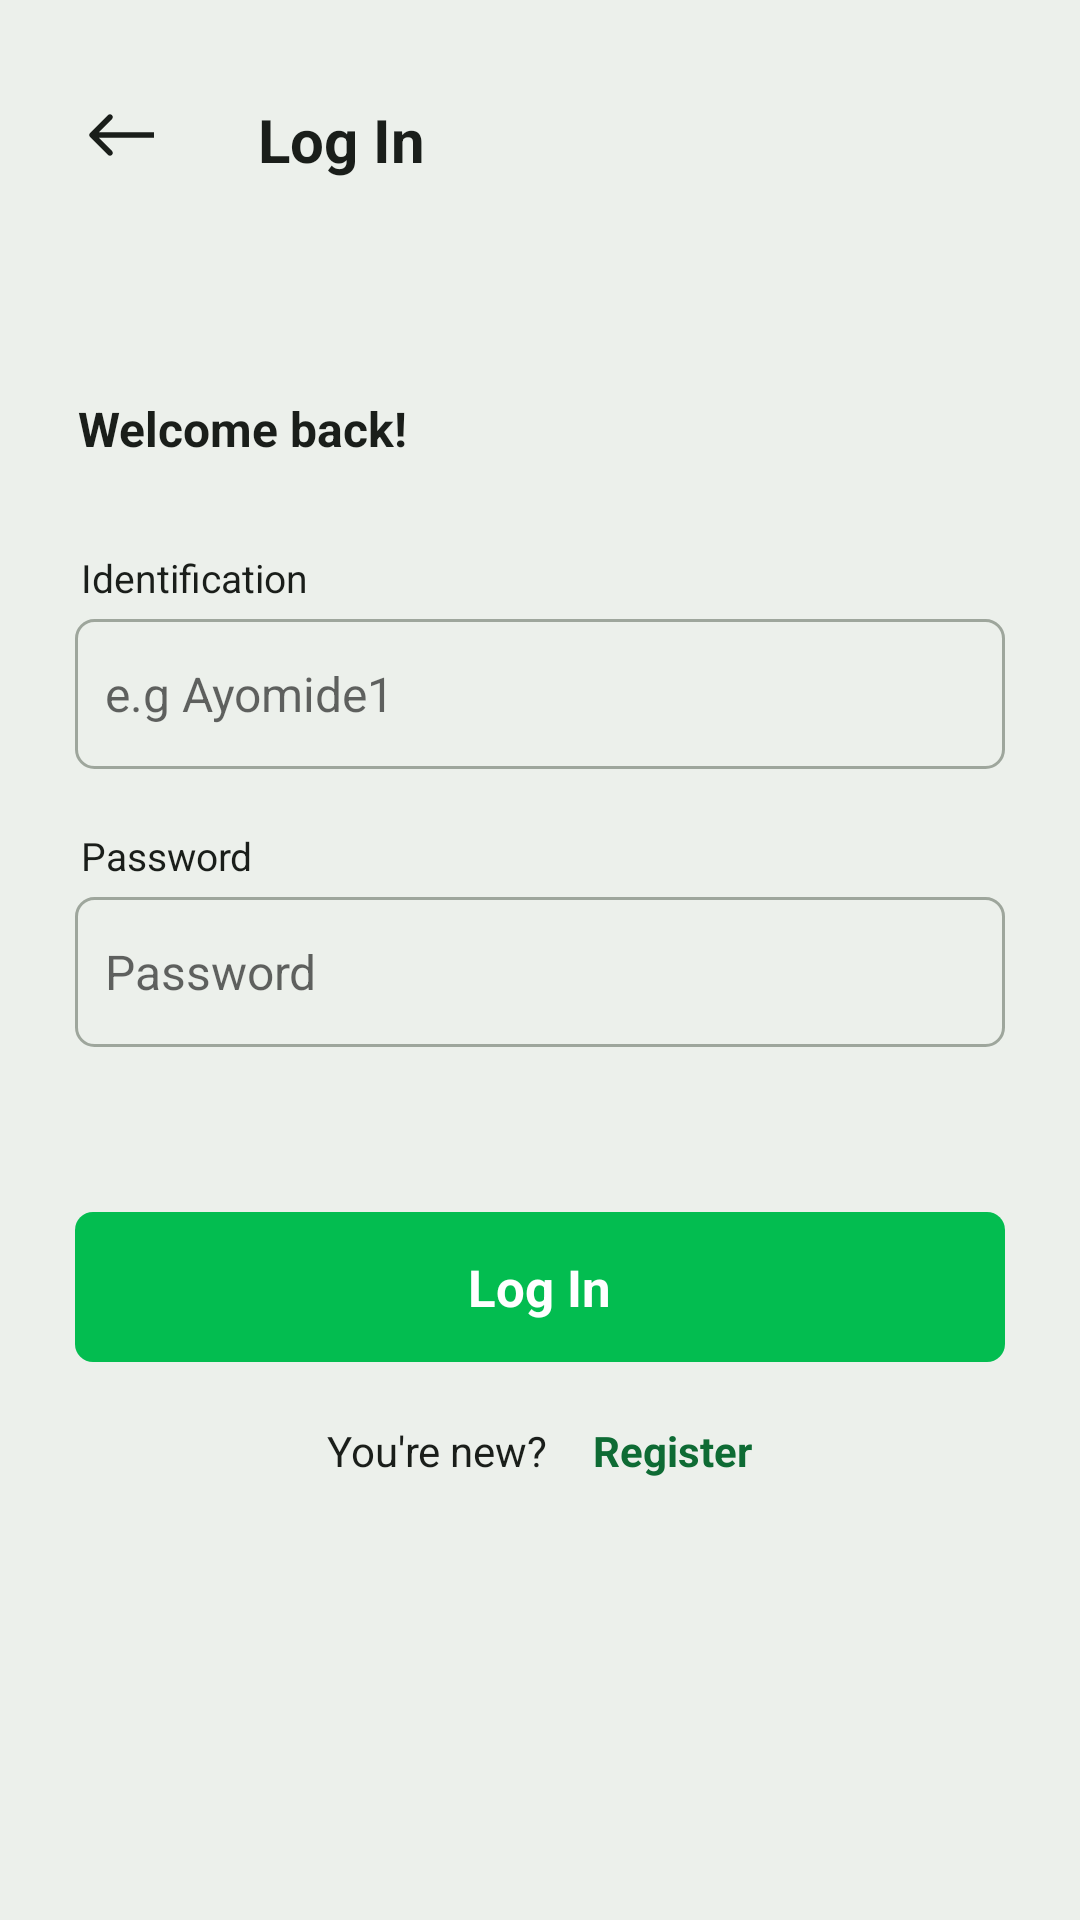

Locate icon controls on the screen. Image size 1080px x 1920px, boxes as (x1, y1, x2, y2).
back: (89, 114, 154, 156)
